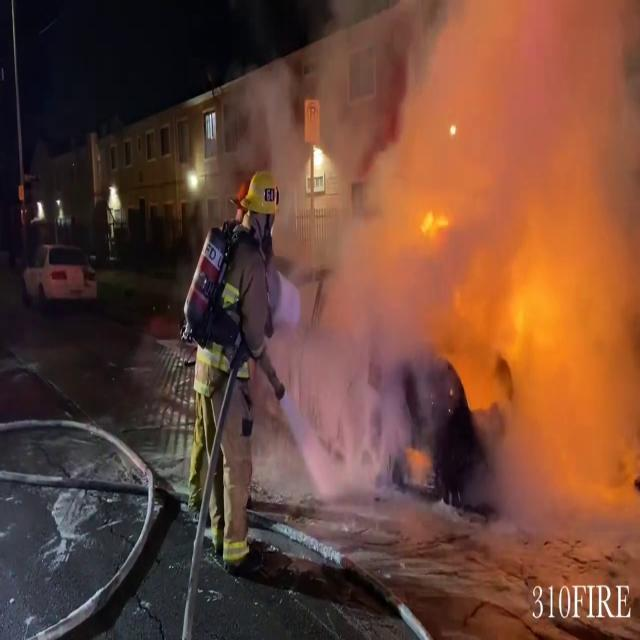Smoke: (211, 0, 640, 523)
